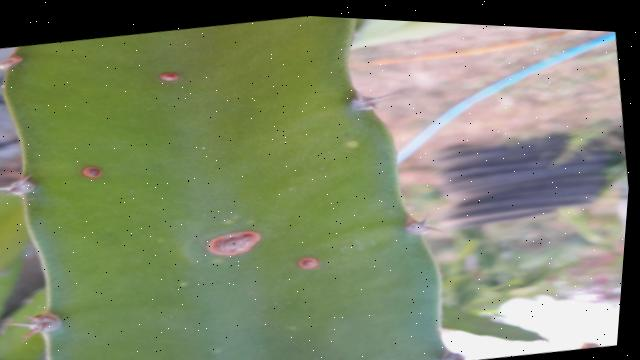stemcanker: (207, 228, 265, 260), (79, 160, 109, 184), (292, 254, 325, 274), (153, 67, 185, 86)
